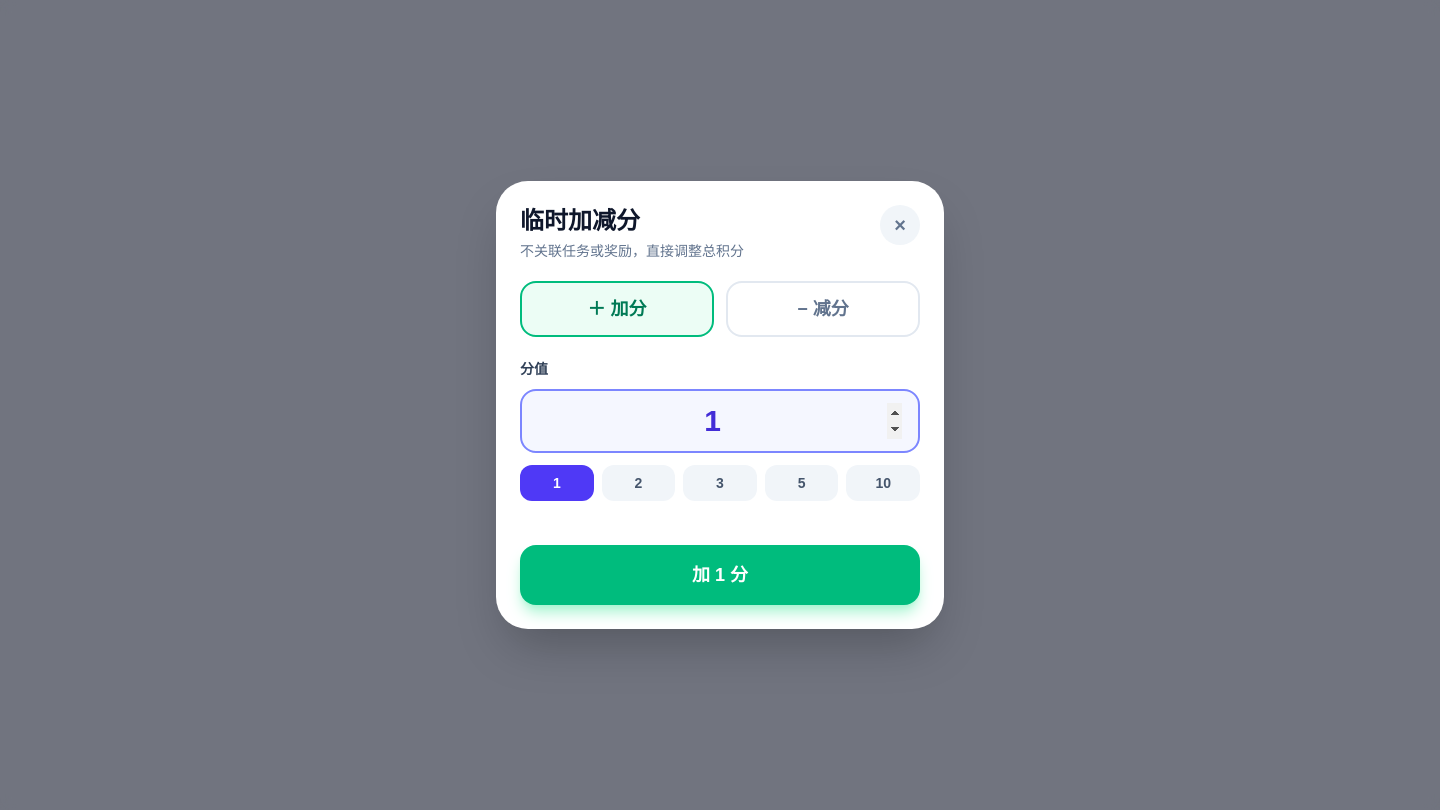
Test case: PointAdjustmentDialog › blocks close controls while an adjustment is being submitted
Click the button "加 1 分" at x=720, y=575, box 520,545 -> 920,605
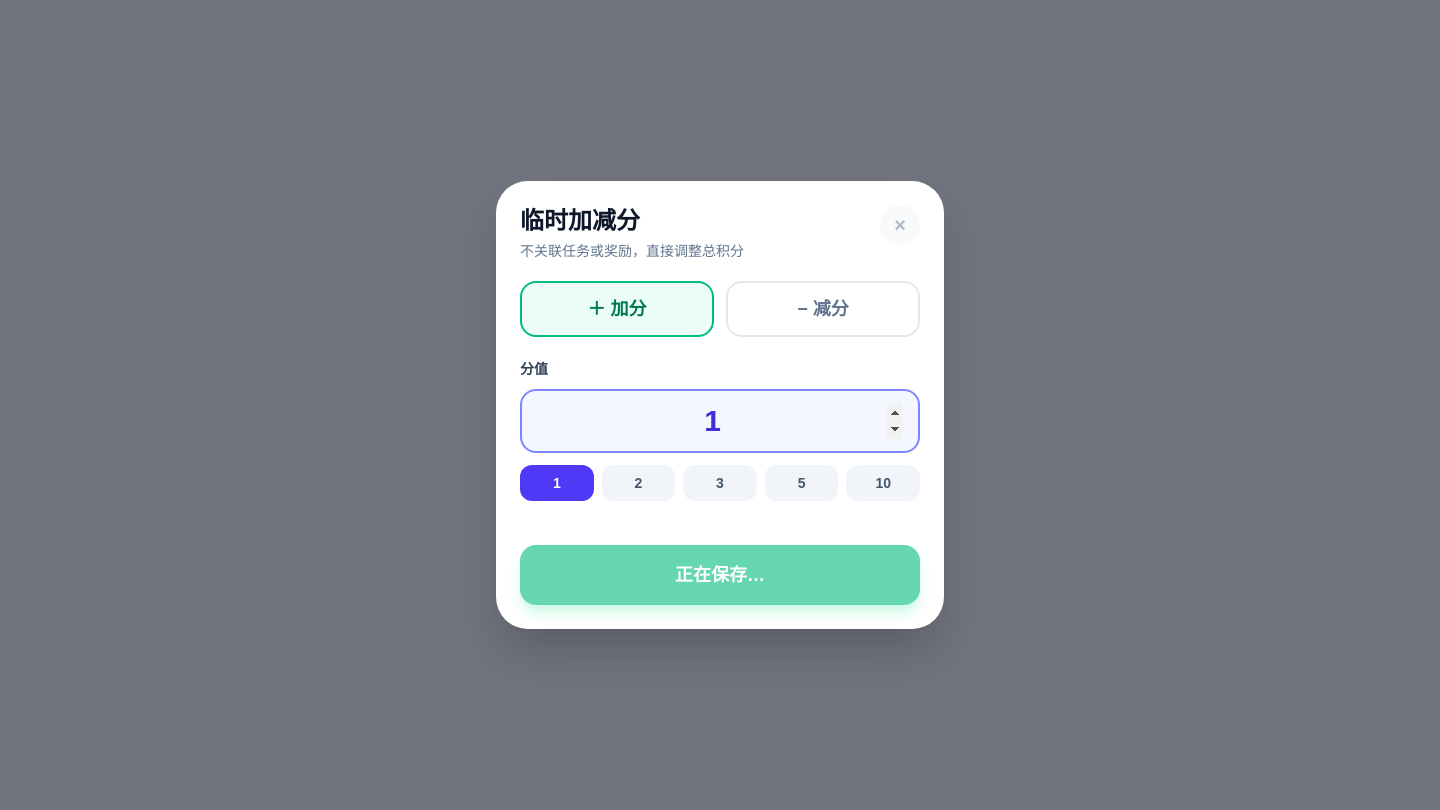
Now the button named "关闭临时加减分" is disabled, box 880,205 -> 920,245
Press Escape
Press the mouse on the element showing "临时加减分 不关联任务或奖励，直接调整总积分 × ＋ 加分 − 减分 分值 1 2 3 5 10 正在保存…" at x=720, y=405, box 0,0 -> 1439,809
Click the button named "关闭临时加减分" at x=900, y=225, box 880,205 -> 920,245
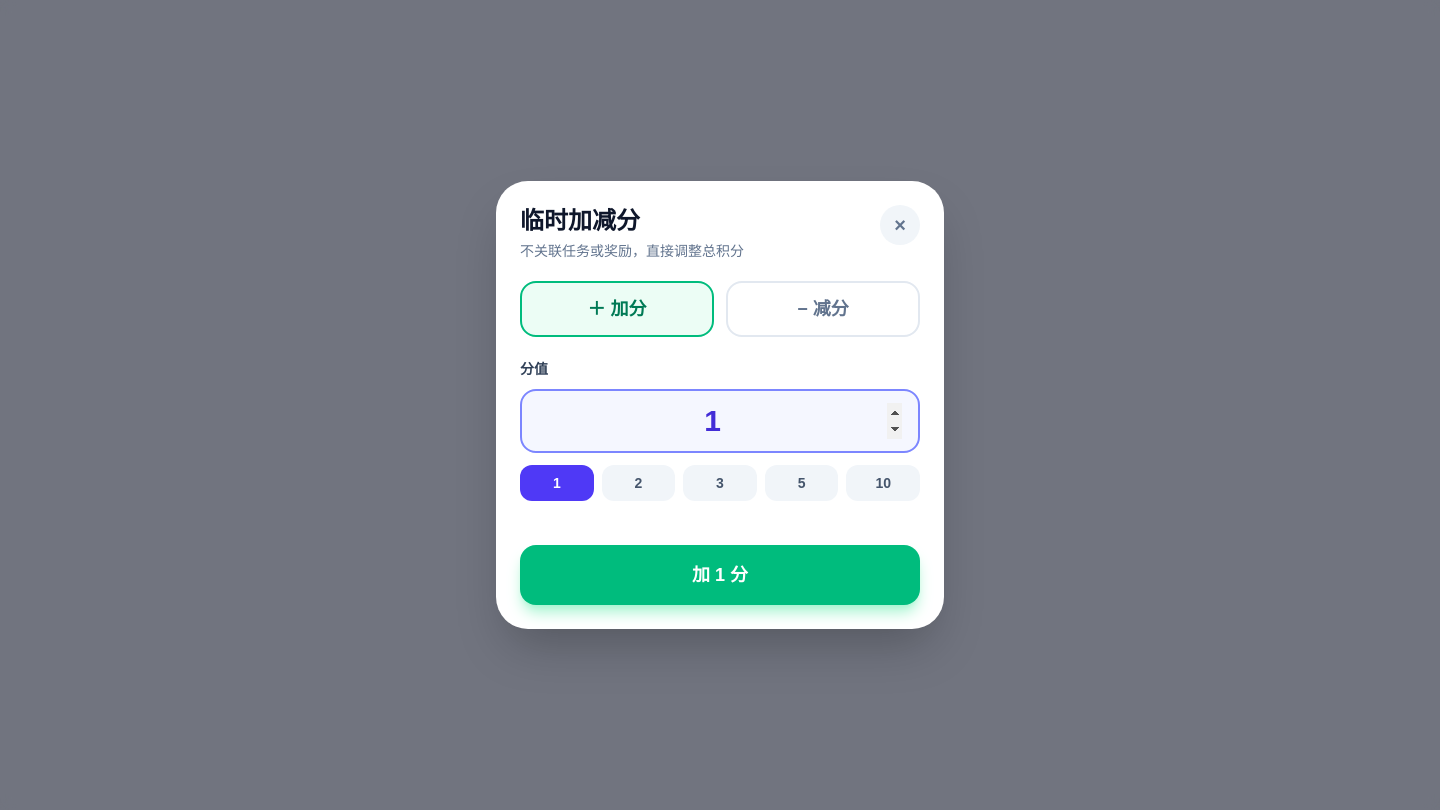
Now the button named "关闭临时加减分" is enabled, box 880,205 -> 920,245
